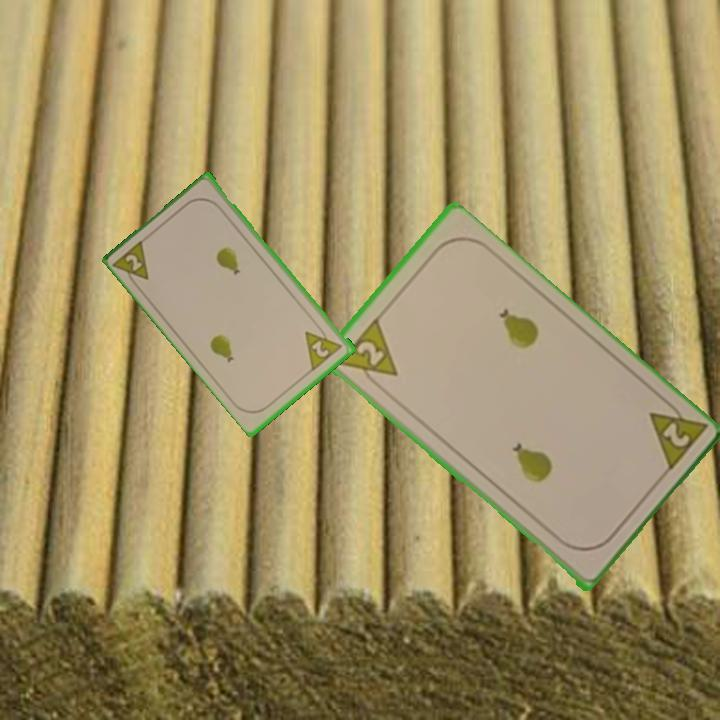2p: (644, 393, 709, 477), (333, 316, 400, 392), (111, 235, 152, 291), (308, 337, 332, 361)
